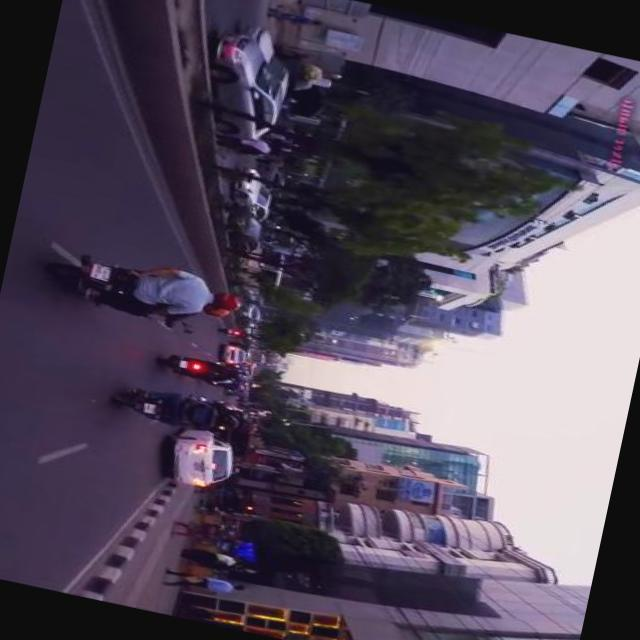car: (200, 34, 294, 148), (165, 426, 241, 494), (236, 24, 304, 92), (230, 168, 280, 222), (225, 206, 269, 256), (222, 346, 250, 369)
motorcycle: (42, 249, 212, 338), (116, 384, 214, 432), (161, 354, 213, 379), (221, 329, 245, 340)
